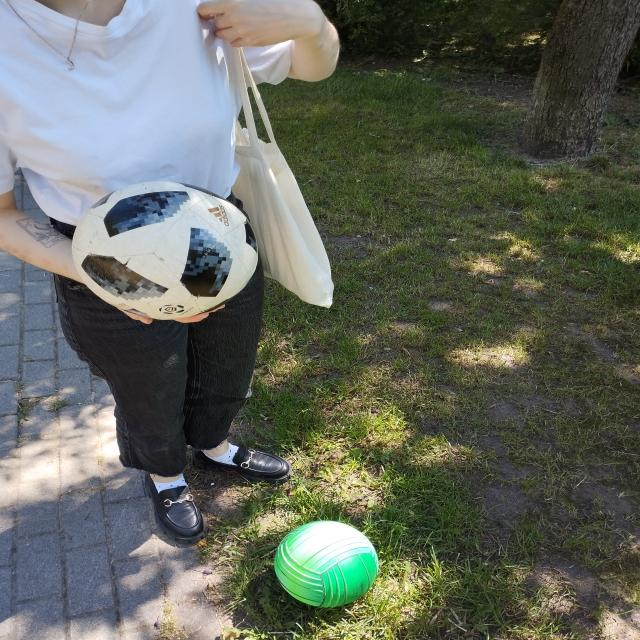nozna: (73, 181, 258, 320)
zielona: (274, 521, 378, 609)
